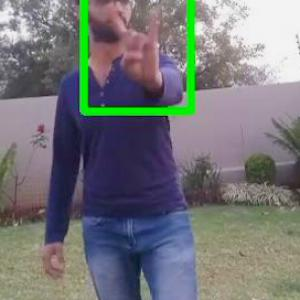takeoff-hand: (99, 0, 171, 98)
